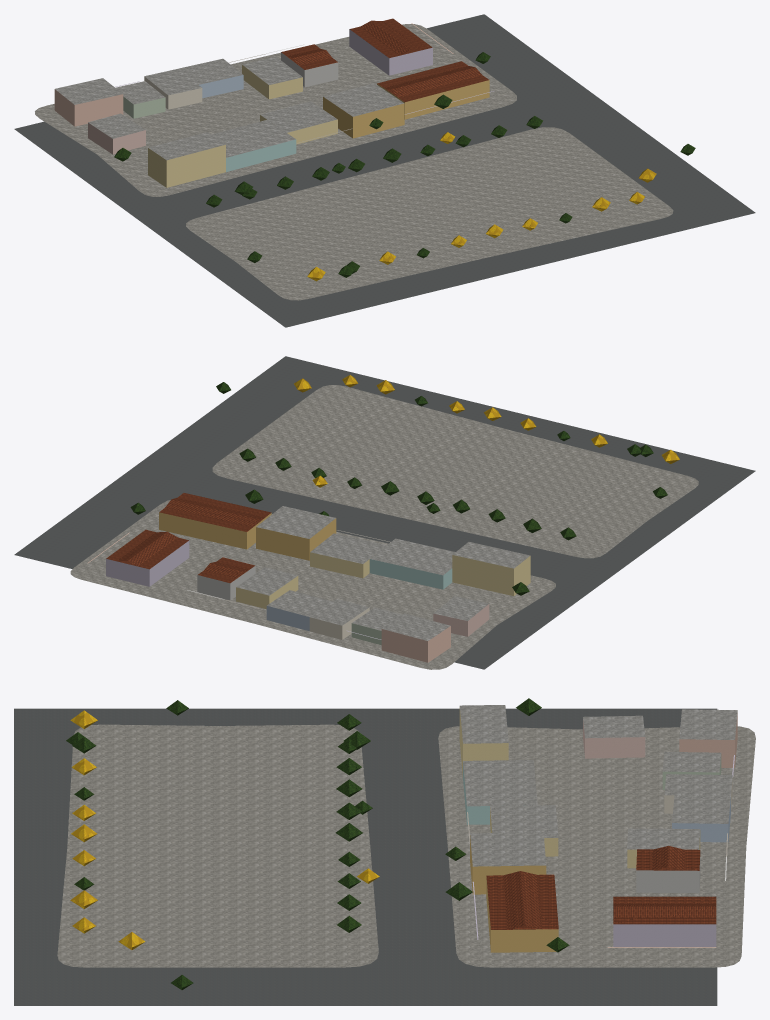
Rendered from cidade_S03_01_lod.gltf.
The picture shows the model from 3 angles, top to bottom: view 1: azimuth 30°, elevation 25°; view 2: azimuth 150°, elevation 25°; view 3: azimuth 270°, elevation 25°; orthographic projection. The views are drawn at different scales.
Parts seen in each view (by area): view 1: S03_01_Chao_LOD2, S03_01_Edificios_LOD1, S03_01_Silhueta_LOD2, S03_01_Vegetacao_LOD2; view 2: S03_01_Chao_LOD2, S03_01_Edificios_LOD1, S03_01_Silhueta_LOD2, S03_01_Vegetacao_LOD2; view 3: S03_01_Chao_LOD2, S03_01_Edificios_LOD1, S03_01_Silhueta_LOD2, S03_01_Vegetacao_LOD2.
Part boxes in pixels (<box>): S03_01_Chao_LOD2: <box>14,14,755,327</box>; S03_01_Edificios_LOD1: <box>54,20,494,187</box>; S03_01_Silhueta_LOD2: <box>281,18,489,118</box>; S03_01_Vegetacao_LOD2: <box>114,52,695,281</box>; S03_01_Chao_LOD2: <box>14,356,755,669</box>; S03_01_Edificios_LOD1: <box>87,497,530,662</box>; S03_01_Silhueta_LOD2: <box>106,493,271,599</box>; S03_01_Vegetacao_LOD2: <box>130,375,679,595</box>; S03_01_Chao_LOD2: <box>14,708,755,1005</box>; S03_01_Edificios_LOD1: <box>459,705,737,952</box>; S03_01_Silhueta_LOD2: <box>486,849,716,952</box>; S03_01_Vegetacao_LOD2: <box>66,698,569,989</box>.
Size of the model in its own units: 101 by 5.77 by 106.
18 materials, 18 textured.
